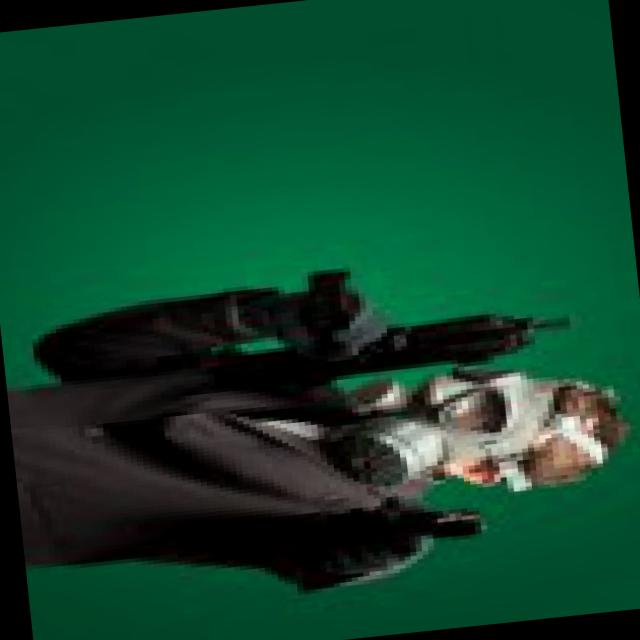handgun: (330, 481, 510, 548)
